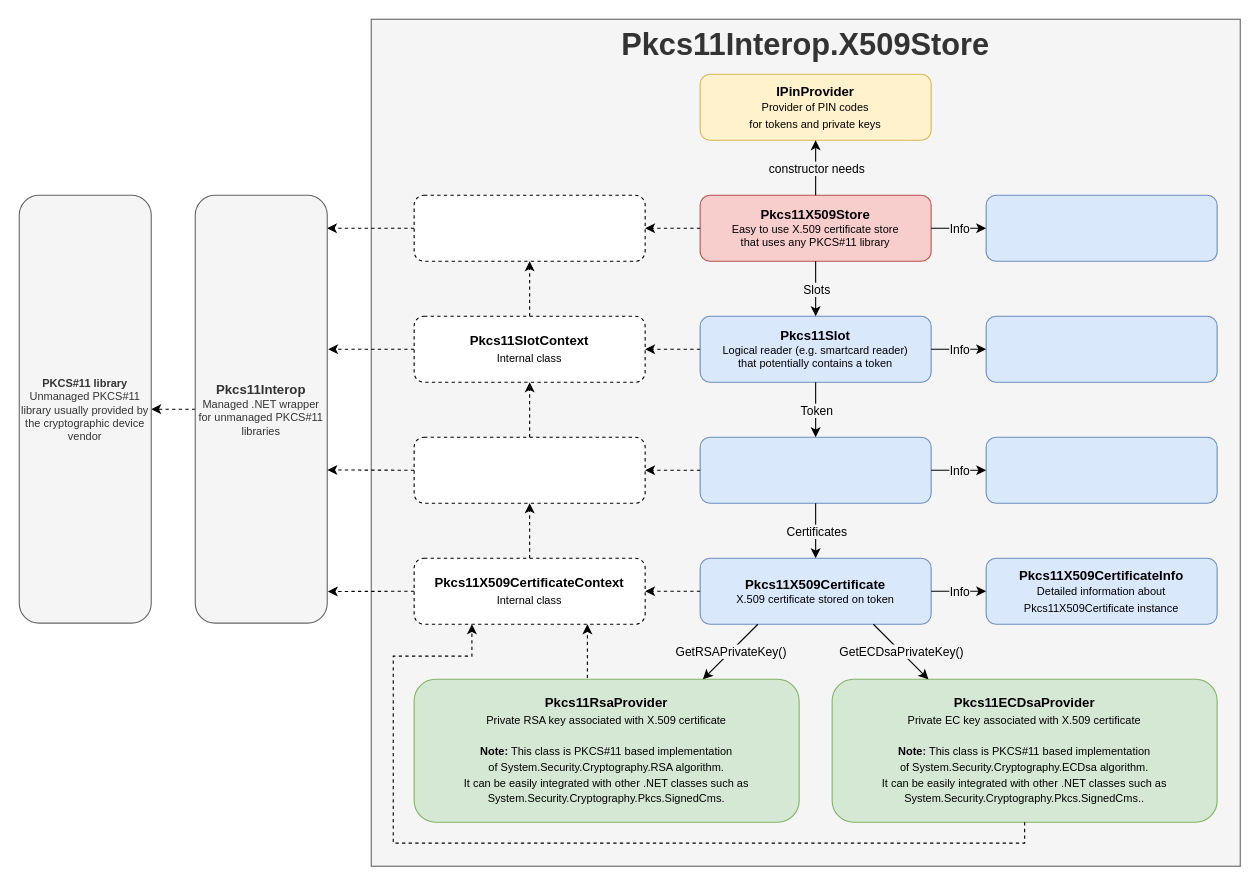
The diagram is 1260 pixels wide and 886 high, and some of its shapes have lost their labels. Each missing label, with the centre of its shape:
Pkcs11SlotInfo Detailed information about Pkcs11Slot instance: (1101,348)
Pkcs11Token Cryptographic device (e.g. smartcard) that is present in the slot: (815,469)
Pkcs11TokenContext Internal class: (529,469)
Pkcs11TokenInfo Detailed information about Pkcs11Token instance: (1101,469)
Pkcs11X509StoreContext Internal class: (529,227)
Pkcs11X509StoreInfo Detailed information about Pkcs11X509Store instance: (1101,227)
